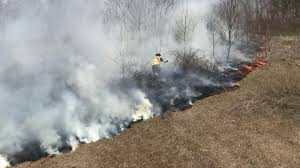smoke: (1, 1, 108, 137)
